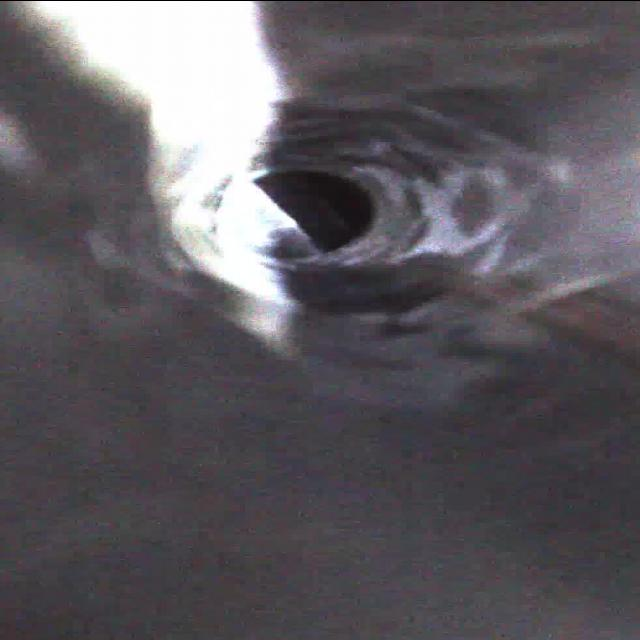crack: (394, 98, 524, 250), (260, 85, 366, 157)
